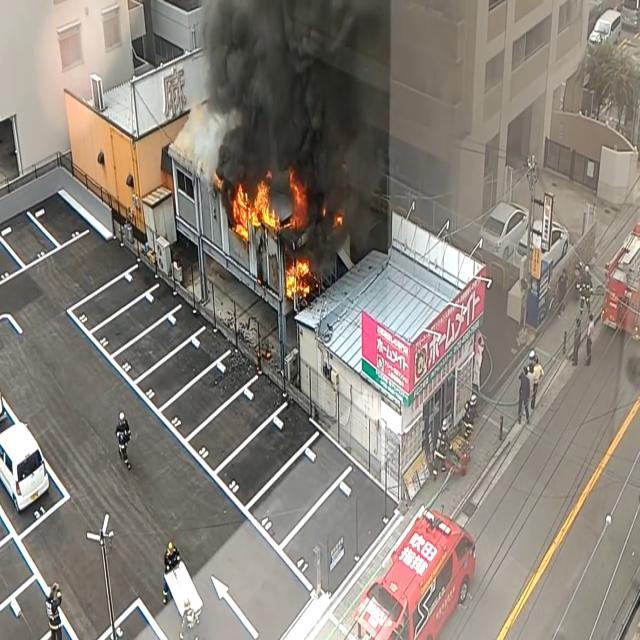Fire: (229, 172, 281, 242), (282, 250, 314, 302)
Smoke: (194, 0, 390, 219)
